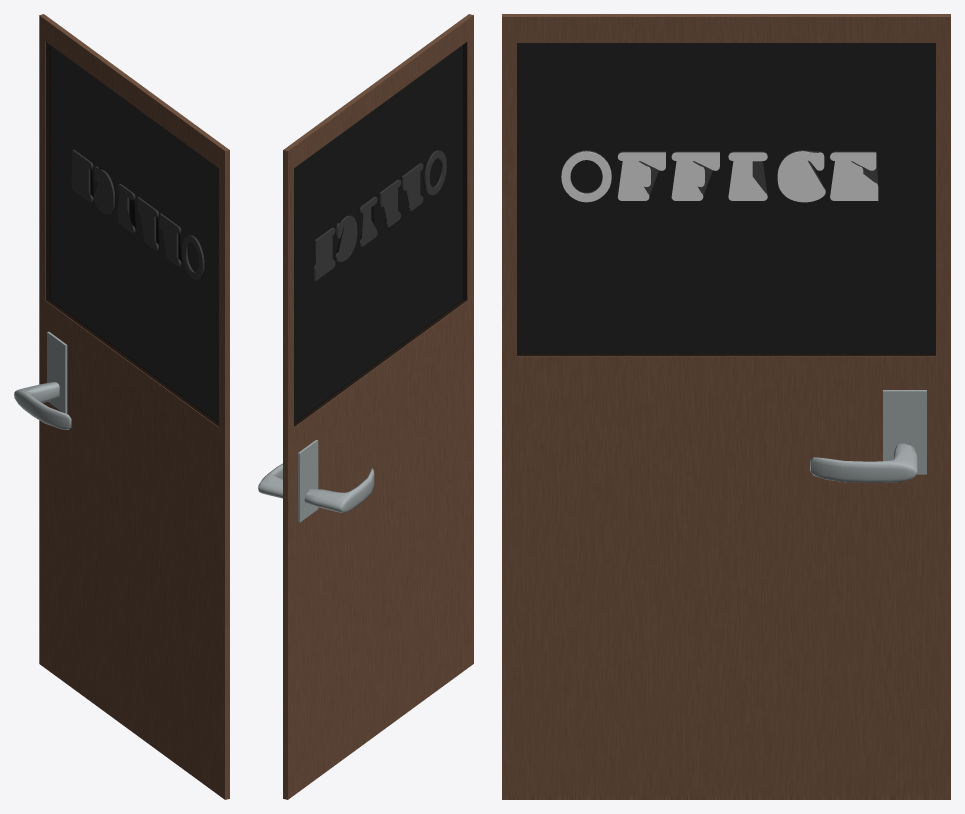
The model's file is OfficeDoor.fbx.
The picture shows the model from 3 angles, left to right: view 1: azimuth 30°, elevation 25°; view 2: azimuth 150°, elevation 25°; view 3: azimuth 270°, elevation 25°; orthographic projection. The views are drawn at different scales.
Visible parts, largest first — view 1: polySurface23, polySurface24, pCube5, polySurface16, polySurface22, polySurface21, polySurface19, polySurface18, polySurface20, polySurface17; view 2: polySurface23, polySurface24, pCube5, polySurface16, polySurface22, polySurface21, polySurface19, polySurface18, pCube3, polySurface17, polySurface20; view 3: polySurface23, polySurface24, polySurface16, pCube3, polySurface22, polySurface21, polySurface19, polySurface18, polySurface20, polySurface17.
Boxes of the visible parts, box(x1,y1,x2,y2) form: polySurface23: box(39, 14, 229, 799); polySurface24: box(46, 42, 218, 426); pCube5: box(14, 382, 71, 429); polySurface16: box(47, 331, 67, 413); polySurface22: box(72, 150, 92, 202); polySurface21: box(93, 167, 114, 214); polySurface19: box(137, 197, 158, 250); polySurface18: box(160, 213, 180, 266); polySurface20: box(118, 184, 135, 233); polySurface17: box(182, 235, 204, 279); polySurface23: box(283, 14, 473, 799); polySurface24: box(294, 42, 466, 426); pCube5: box(304, 468, 374, 512); polySurface16: box(298, 440, 318, 522); polySurface22: box(314, 228, 335, 280); polySurface21: box(336, 216, 356, 261); polySurface19: box(379, 180, 400, 226); polySurface18: box(402, 163, 422, 210); pCube3: box(258, 463, 282, 498); polySurface17: box(424, 150, 446, 194); polySurface20: box(360, 197, 377, 246); polySurface23: box(502, 14, 950, 799); polySurface24: box(517, 43, 935, 355); polySurface16: box(883, 390, 926, 474); pCube3: box(810, 443, 917, 482); polySurface22: box(830, 152, 878, 200); polySurface21: box(777, 150, 825, 202); polySurface19: box(671, 152, 719, 200); polySurface18: box(617, 152, 665, 200); polySurface20: box(728, 152, 767, 200); polySurface17: box(561, 150, 611, 202).
Size of the model in its own units: 4.39 by 31.62 by 16.43.
4 materials, 1 textured.
